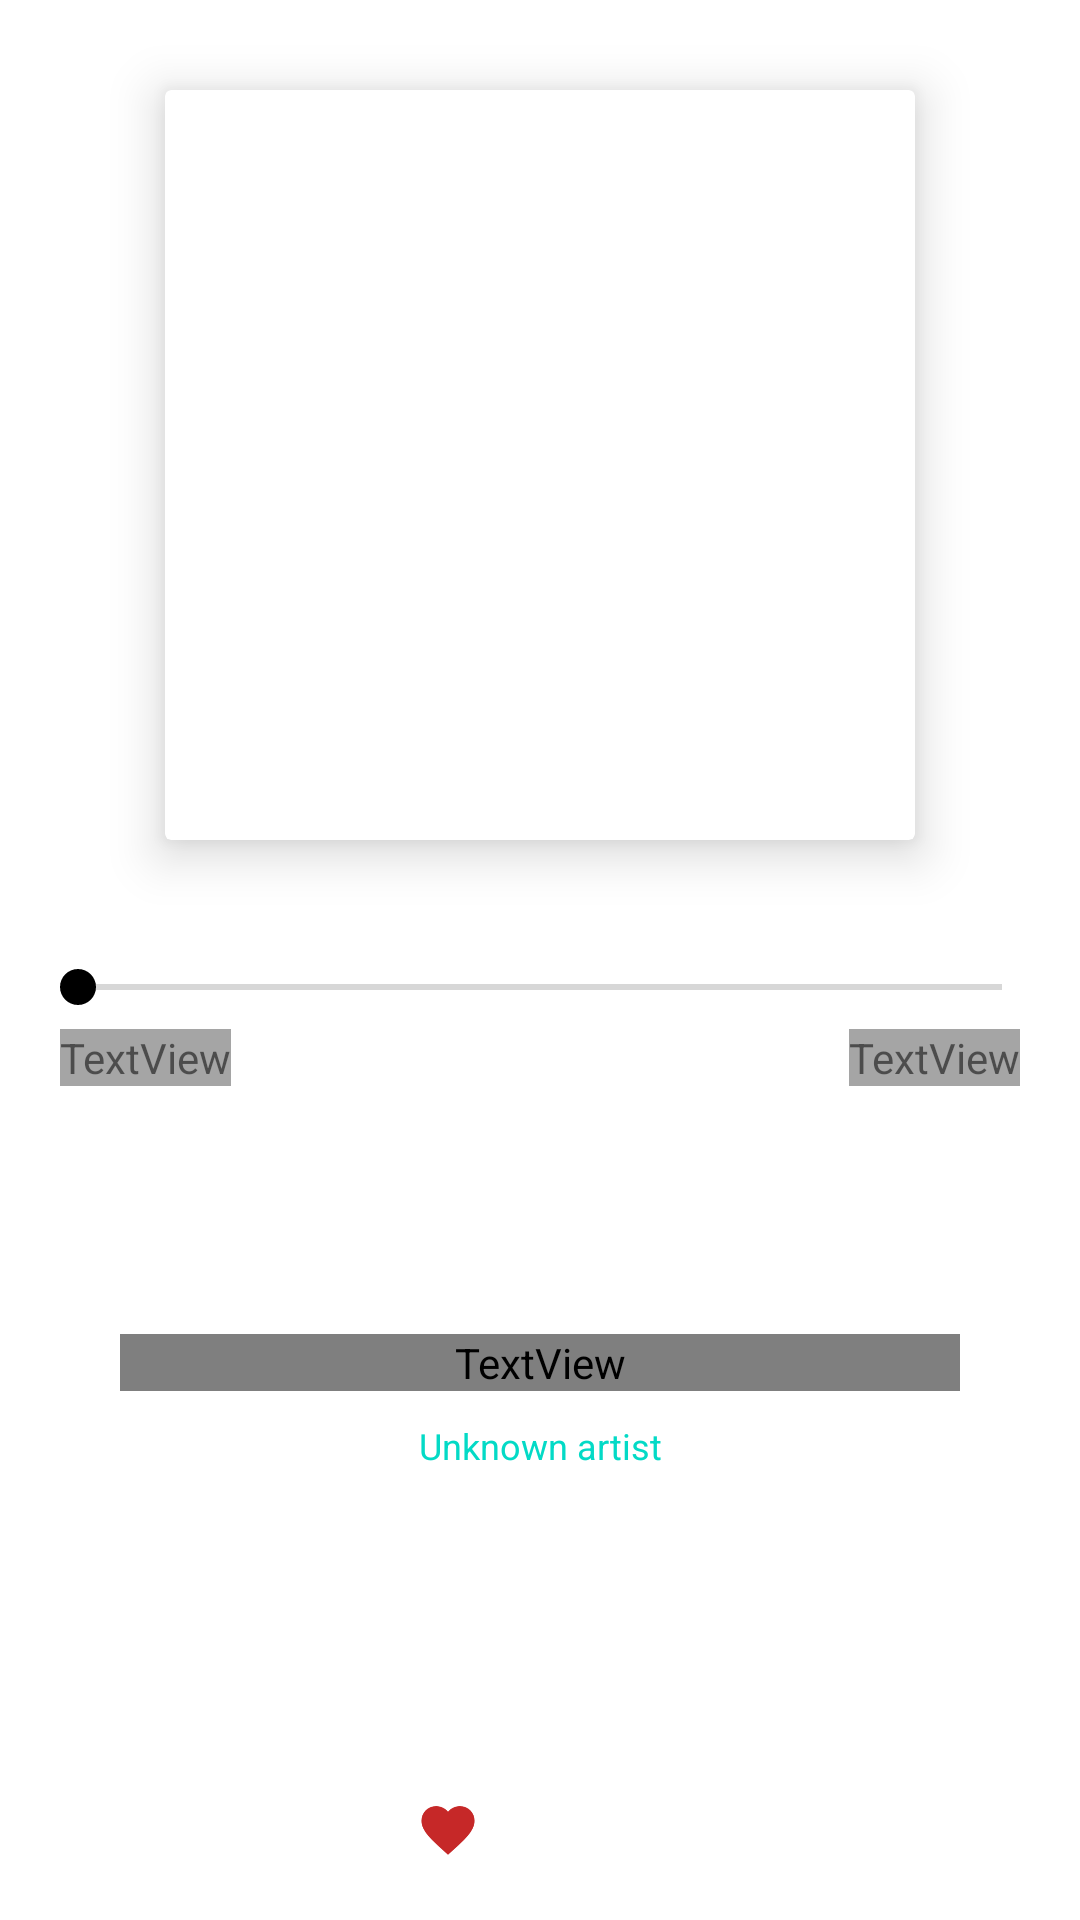

Named icons in this screenshot (1080px×1920px) and their bounding boxes, Rect(x1, y1, x2, y2):
fav on: Rect(421, 1806, 475, 1855)
